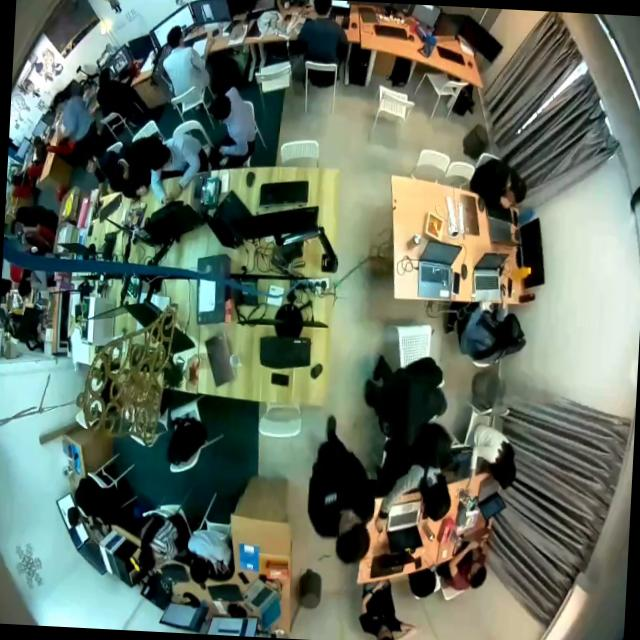employee_tag: (324, 494, 338, 506)
